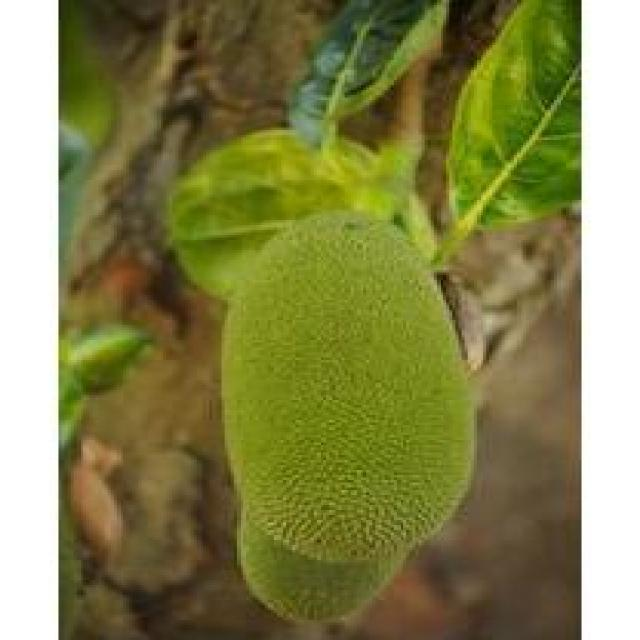Fruit: (190, 195, 502, 623)
